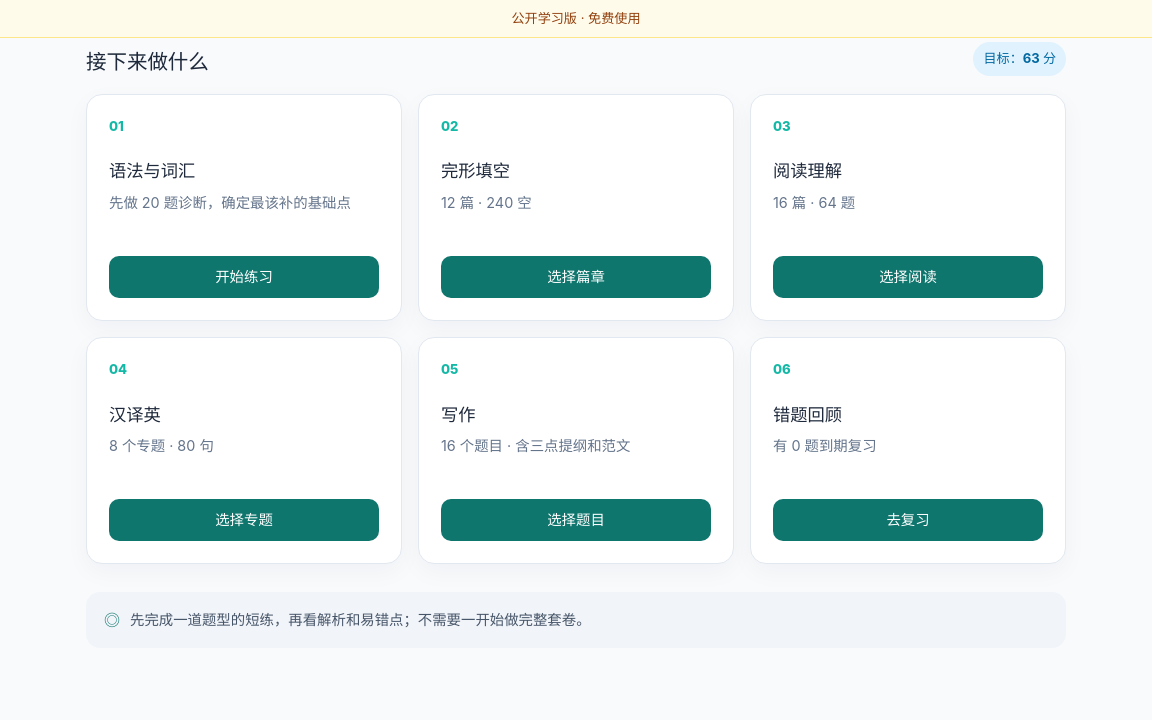
Test: App › lets the learner choose a translation topic, save a draft, and then view the reference
(page scrolled)
Step 1. Click the button "选择专题" → click(244, 520), box [109,499,379,541]
(page scrolled)
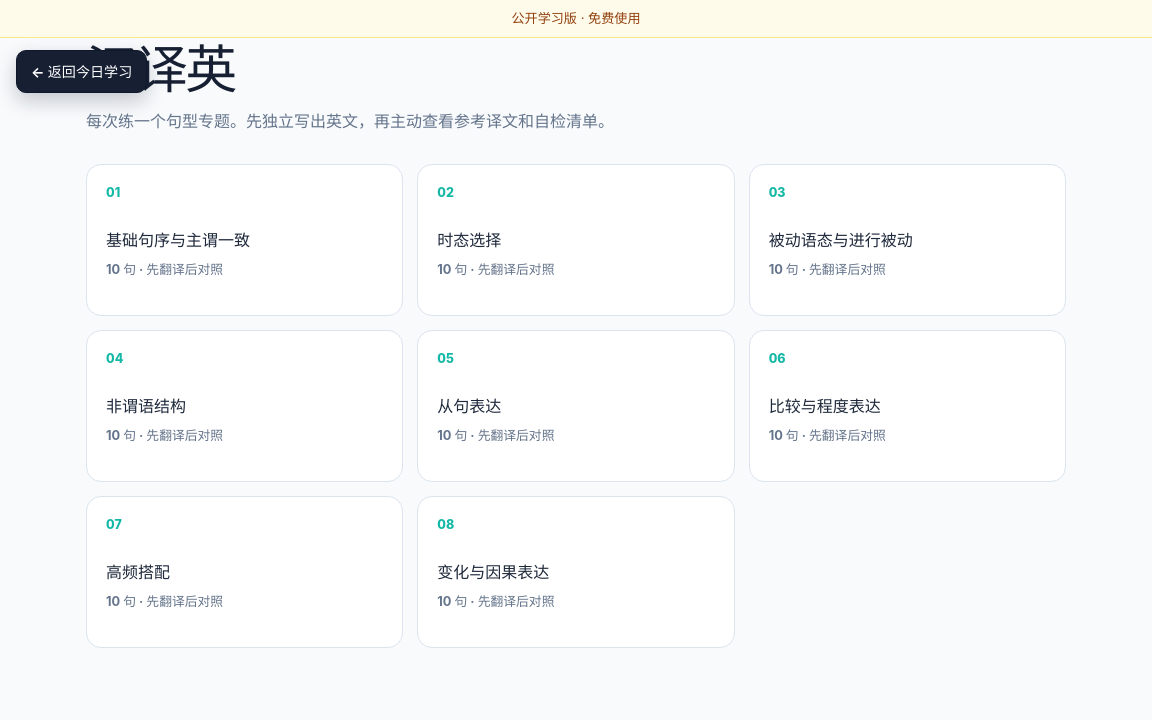
Step 2. Click the button with aria-label "基础句序与主谓一致 · 10 句" → click(245, 240), box [86,164,403,316]
(page scrolled)
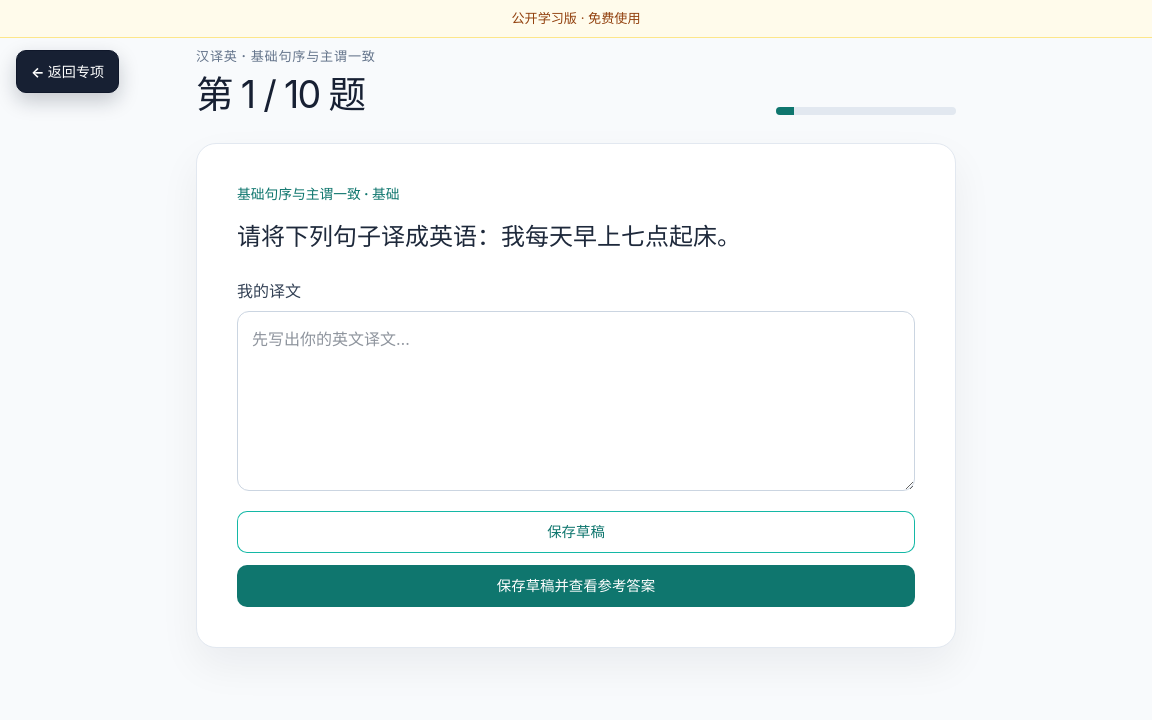
Check: the text "汉译英 · 基础句序与主谓一致" is shown, box [196,47,376,67]
Step 3. Type "I get up at seven every morning." into the text box labelled "我的译文" → (576, 401), box [237,311,915,491]
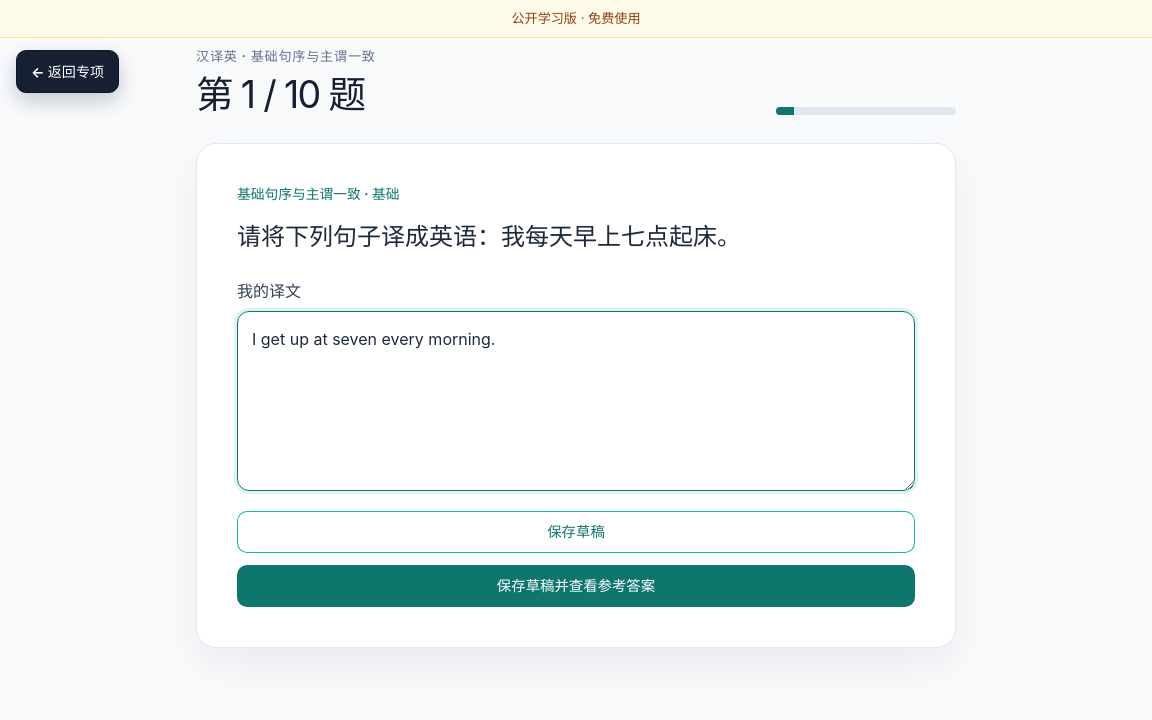
Step 4. Click the button "保存草稿并查看参考答案" → click(576, 586), box [237,565,915,607]
(page scrolled)
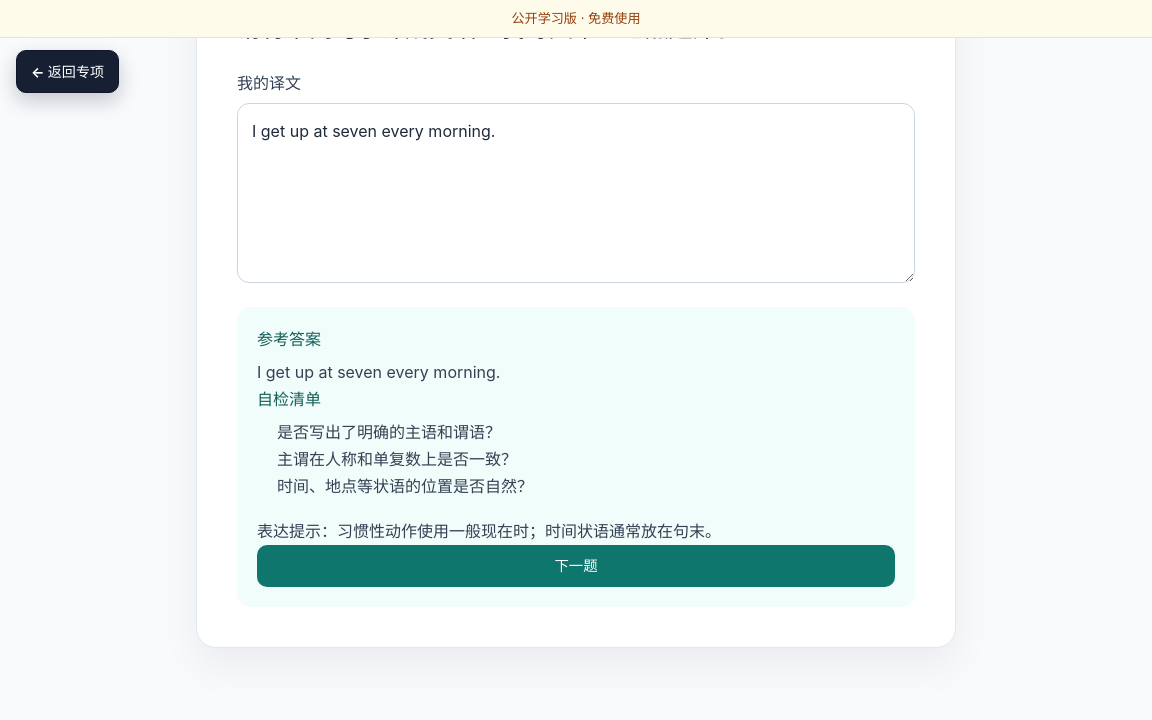
Check: the element named "参考答案与自检" shows "I get up at seven every morning.", box [257,362,500,382]
